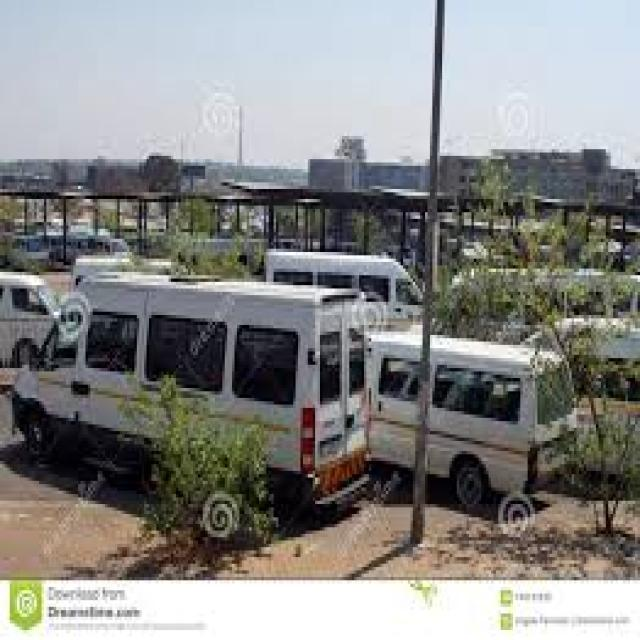MiniBus taxi: (12, 279, 376, 484), (374, 325, 586, 521)
